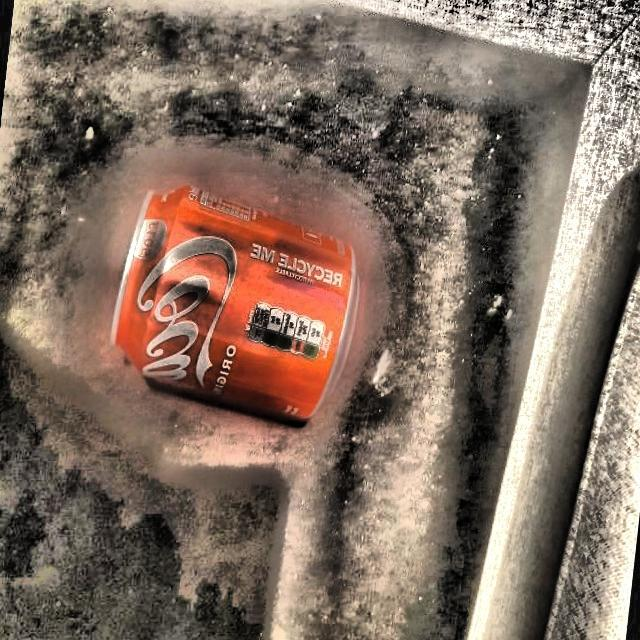coke-can: (106, 182, 356, 414)
